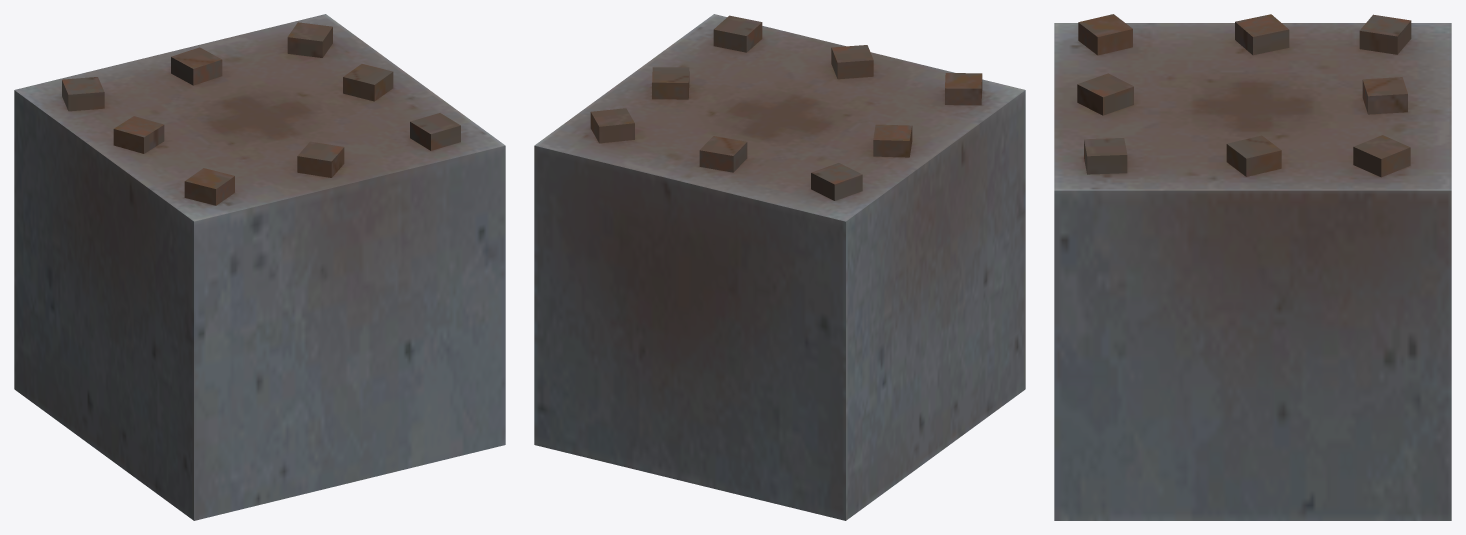
The model's file is conveyorsupport_bottom.glb.
3 views of the same model, side by side, from view 1: azimuth 30°, elevation 25°; view 2: azimuth 150°, elevation 25°; view 3: azimuth 270°, elevation 25° (orthographic). The views are drawn at different scales.
Visible parts, largest first — view 1: conveyorsupport_bottom; view 2: conveyorsupport_bottom; view 3: conveyorsupport_bottom.
Boxes of the visible parts, <box> form: conveyorsupport_bottom: <box>14,14,505,520</box>; conveyorsupport_bottom: <box>534,14,1025,520</box>; conveyorsupport_bottom: <box>1054,14,1451,520</box>.
Bounding box in the file's own units: 0.5004 × 0.4848 × 0.5004.
1 material, 1 textured.
